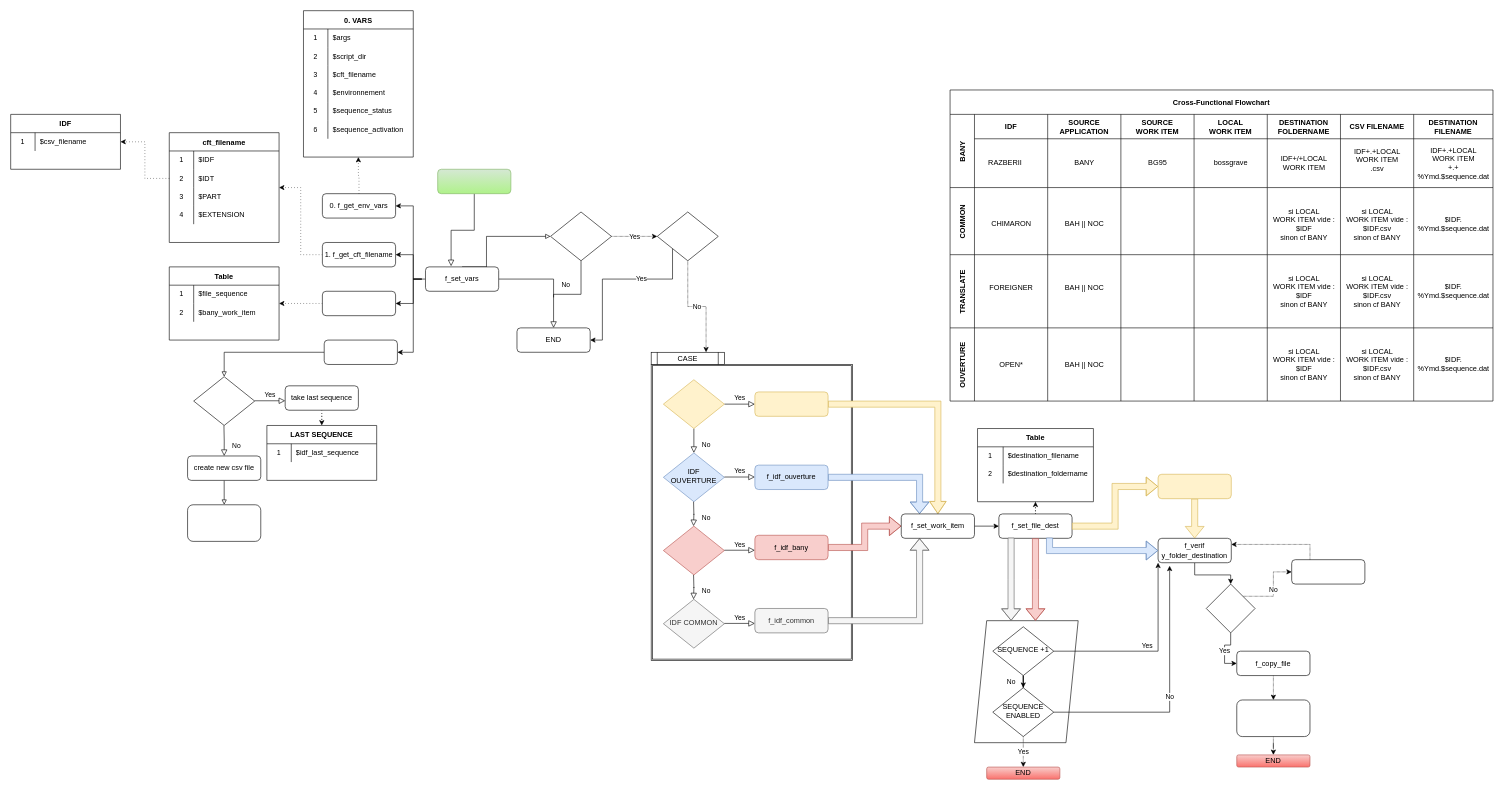
This 1504x790 diagram has some shape labels left out. The shapes that lost their labels are listed below. From the top down, each one's centre as x and y in pixels, then its label:
At point (474, 181): "START".
At point (581, 236): "IDF ACTIVATED".
At point (687, 236): "ANOTHER INSTANCE RUNNING".
At point (359, 303): "2. f_get_file_first_line".
At point (360, 351): "3. f_get_last_sequence".
At point (224, 400): "IDF CSV EXIST".
At point (693, 404): "IDF TRANSLATE".
At point (791, 403): "f_idf_translate".
At point (1194, 486): "f_trim_translate".
At point (224, 522): "set sequence as the same of the cft file to the csv file".
At point (693, 550): "IDF BANY".
At point (1328, 571): "f_wait_10s".
At point (1230, 608): "EMPTY_FOLDER_DESTINATION".
At point (1273, 718): "f_update_csv_sequence".
